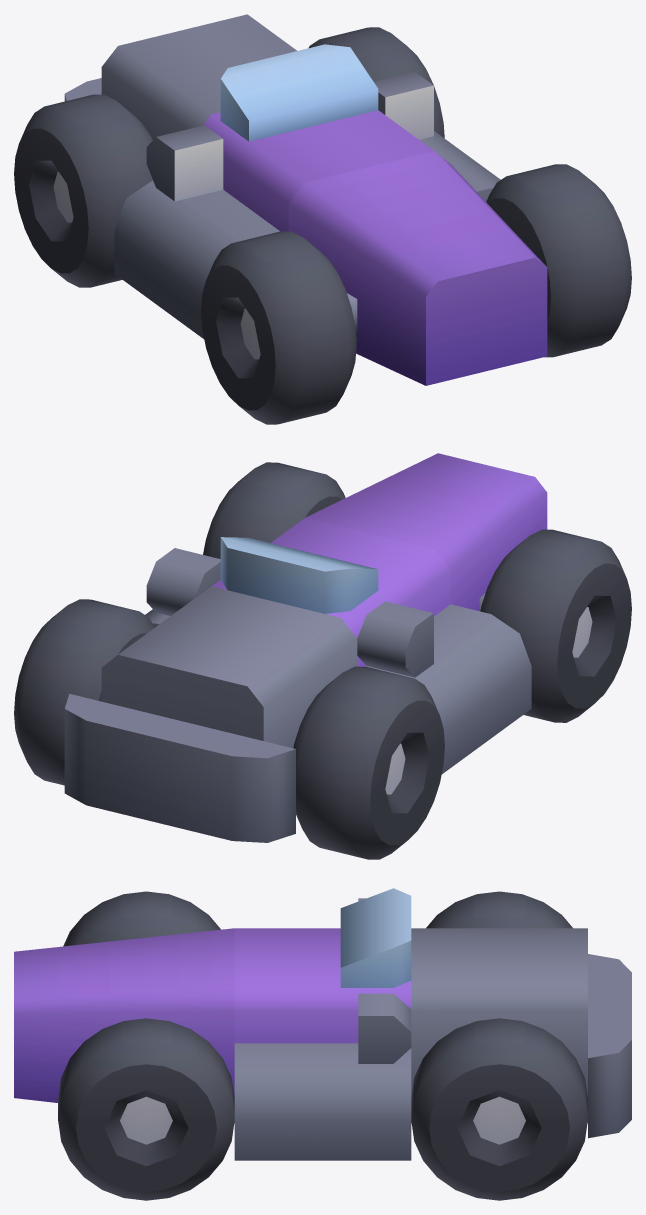
File: veteranbil.glb
3 views of the same model, one above another, from view 1: azimuth 30°, elevation 25°; view 2: azimuth 150°, elevation 25°; view 3: azimuth 270°, elevation 25° (orthographic). The views are drawn at different scales.
Visible parts, largest first — view 1: vehicle-vintage-racer, wheel-bl, wheel-fl, wheel-br, wheel-fr; view 2: vehicle-vintage-racer, wheel-fl, wheel-bl, wheel-fr, wheel-br; view 3: vehicle-vintage-racer, wheel-fr, wheel-br, wheel-bl, wheel-fl.
Part boxes in pixels (left/top/right/bottom): vehicle-vintage-racer: left=64, top=14, right=547, bottom=385; wheel-bl: left=201, top=231, right=356, bottom=424; wheel-fl: left=14, top=94, right=152, bottom=287; wheel-br: left=486, top=164, right=631, bottom=357; wheel-fr: left=308, top=27, right=444, bottom=138; vehicle-vintage-racer: left=64, top=453, right=547, bottom=842; wheel-fl: left=293, top=666, right=444, bottom=859; wheel-bl: left=480, top=529, right=631, bottom=722; wheel-fr: left=14, top=599, right=154, bottom=785; wheel-br: left=203, top=462, right=345, bottom=558; vehicle-vintage-racer: left=14, top=888, right=631, bottom=1160; wheel-fr: left=411, top=1018, right=587, bottom=1200; wheel-br: left=58, top=1018, right=234, bottom=1200; wheel-bl: left=63, top=891, right=220, bottom=946; wheel-fl: left=426, top=891, right=572, bottom=928.
Bounding box in the file's own units: 0.55 × 0.325 × 0.875.
1 material, 1 textured.
